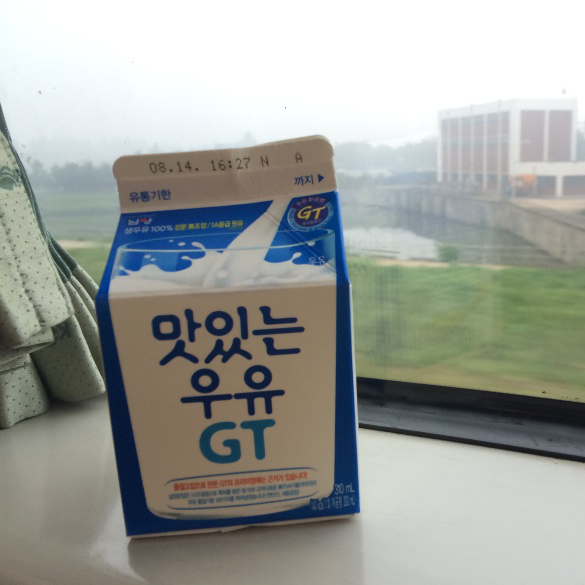milk: (95, 132, 361, 534)
